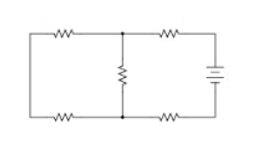resistor: (47, 22, 81, 45), (151, 22, 186, 43), (111, 57, 133, 90), (44, 107, 80, 125), (152, 110, 186, 123)
